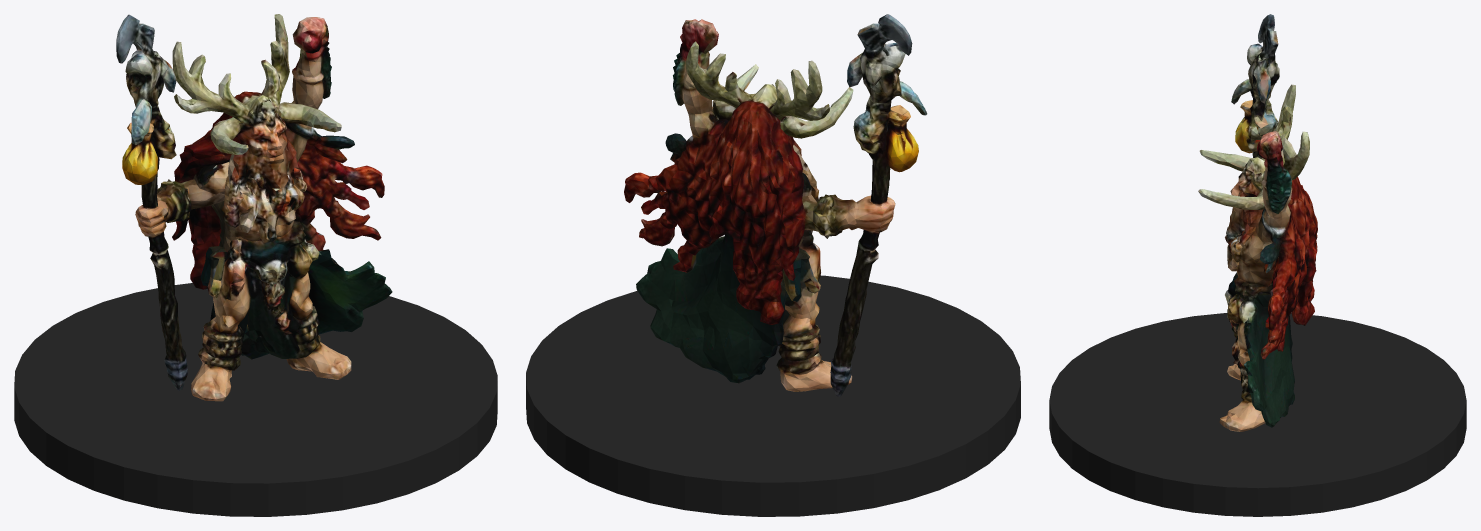
File: wm-ravager-shaman.glb
3 renders of one model, left to right at view 1: azimuth 30°, elevation 25°; view 2: azimuth 150°, elevation 25°; view 3: azimuth 270°, elevation 25°, orthographic. The views are drawn at different scales.
Parts seen in each view (by area): view 1: base, figure; view 2: base, figure; view 3: base, figure.
Boxes of the visible parts, <box> form: base: <box>14,283,497,516</box>; figure: <box>116,14,392,401</box>; base: <box>526,275,1020,516</box>; figure: <box>624,14,927,396</box>; base: <box>1049,313,1466,516</box>; figure: <box>1198,14,1317,431</box>.
Size of the model in its own units: 1.57 by 1.52 by 1.57.
2 materials, 1 textured.
